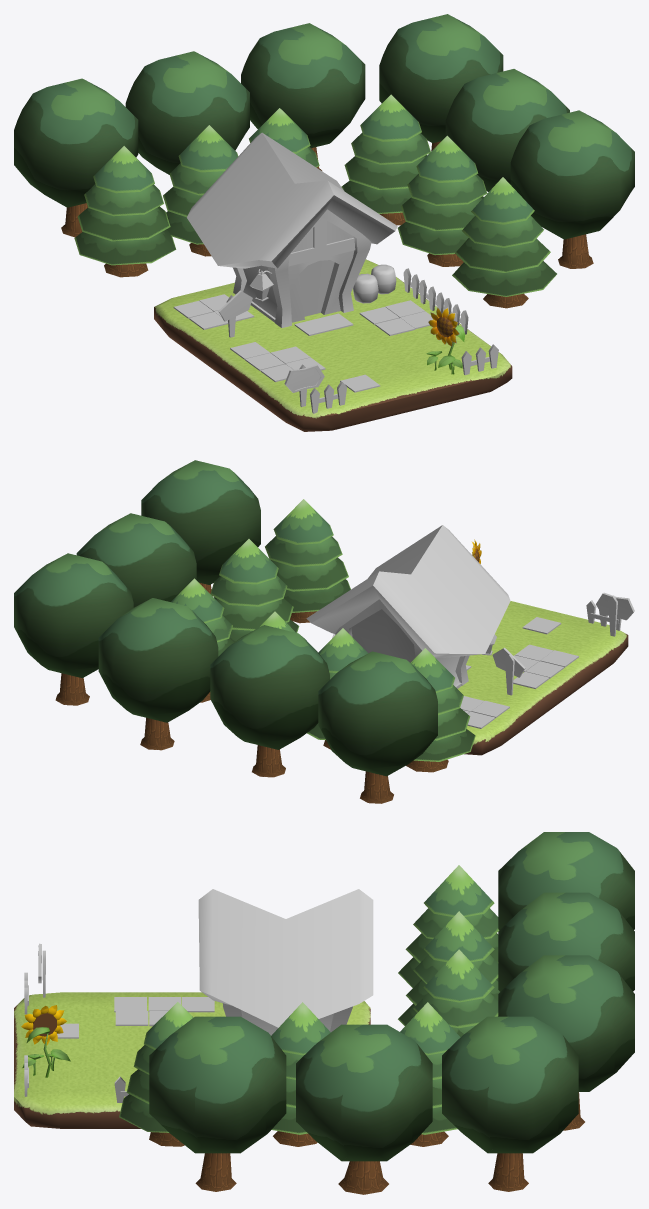
File: farmland-obj.FBX
3 renders of one model, top to bottom at view 1: azimuth 30°, elevation 25°; view 2: azimuth 150°, elevation 25°; view 3: azimuth 270°, elevation 25°, orthographic. The views are drawn at different scales.
Visible parts, largest first — view 1: grid1, polymsh96, cube191, cube188, cube190, cube189, cube192, cylinder75, cylinder100, cube136, cylinder101, cylinder102 (+8 smaller); view 2: polymsh96, cube188, cube190, cube189, grid1, cube192, cube191, cube136, cylinder100, cylinder101, cylinder75, cylinder102 (+6 smaller); view 3: polymsh96, cube191, cube192, cube136, grid1, cube190, cube189, cube188, cylinder75, cylinder104, cylinder103, cylinder100 (+7 smaller).
Boxes of the visible parts, x1,y1,x2,y2 form: grid1: (154,259,512,431); polymsh96: (187,132,397,327); cube191: (510,110,634,239); cube188: (14,78,138,207); cube190: (241,23,365,148); cube189: (125,51,249,174); cube192: (379,14,503,143); cylinder75: (74,146,176,277); cylinder100: (452,177,556,308); cube136: (445,69,569,191); cylinder101: (397,135,487,266); cylinder102: (341,94,430,225); polymsh96: (306,525,510,688); cube188: (318,651,437,776); cube190: (98,598,218,722); cube189: (210,625,329,749); grid1: (458,601,628,755); cube192: (14,553,133,678); cube191: (141,460,260,584); cube136: (76,513,196,607); cylinder100: (265,499,350,623); cylinder101: (210,539,299,642); cylinder75: (406,648,475,772); cylinder102: (171,578,233,702); polymsh96: (198,889,373,1035); cube191: (149,1016,286,1153); cube192: (442,1016,578,1153); cube136: (296,1024,432,1161); grid1: (14,992,370,1128); cube190: (498,955,634,1091); cube189: (498,892,634,991); cube188: (498,832,634,929); cylinder75: (398,865,499,987); cylinder104: (413,949,498,1037); cylinder103: (398,911,499,1025); cylinder100: (119,1002,193,1146).
Size of the model in its own units: 23.89 by 8.53 by 26.01.
